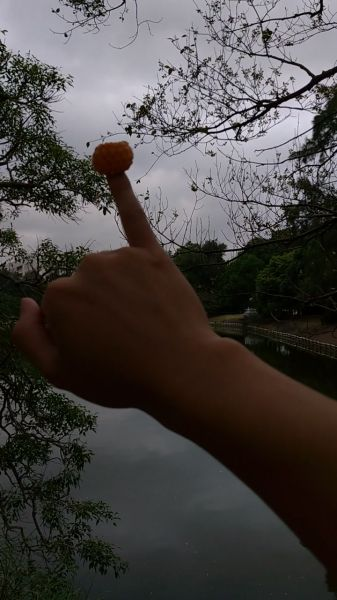eggs: (94, 142, 134, 173)
